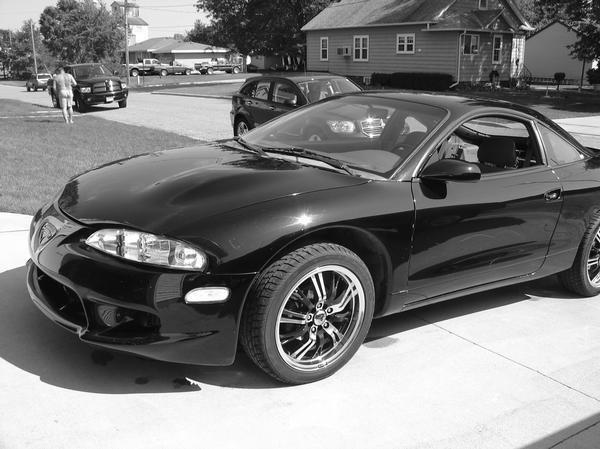car: (17, 91, 599, 371)
